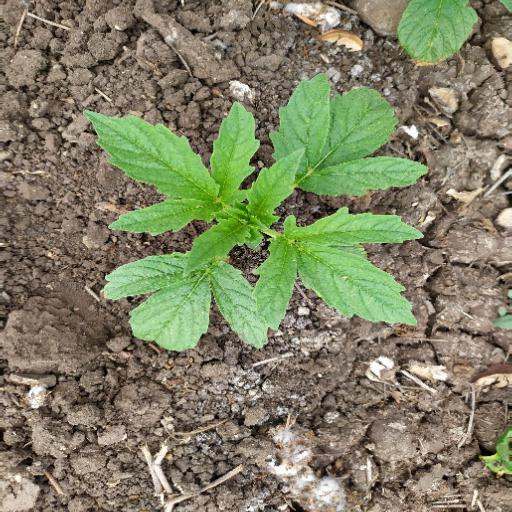weed: (81, 66, 423, 353)
